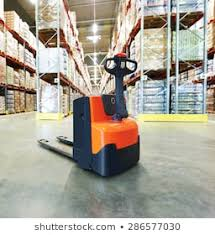Pallet Jack: (35, 53, 141, 178)
